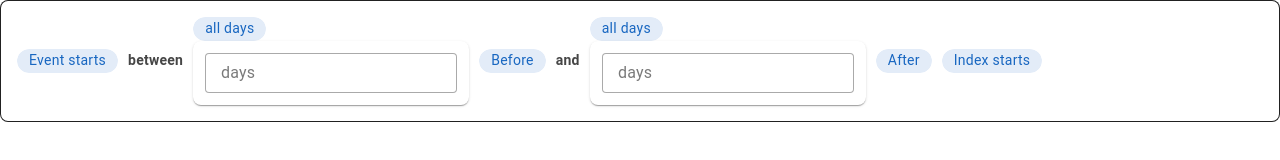
Window editor › toggles the event and index anchors onto the window
Click the element with class "window-editor__chip" showing "Event starts". click: {"x": 68, "y": 61}
box: [17, 49, 118, 73]
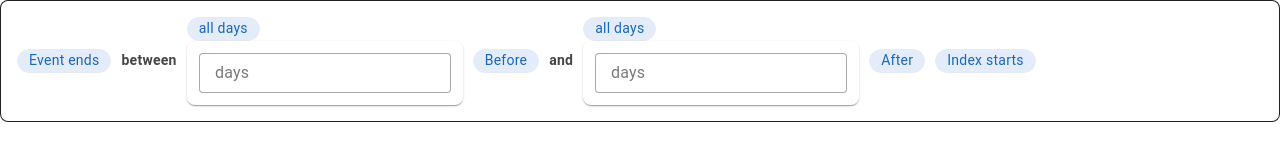
Result: the element with class "window-editor__chip" reads "Event ends" at [29, 52, 100, 68]
Click the element with class "window-editor__chip" showing "Index starts". click: {"x": 986, "y": 61}
box: [935, 49, 1036, 73]
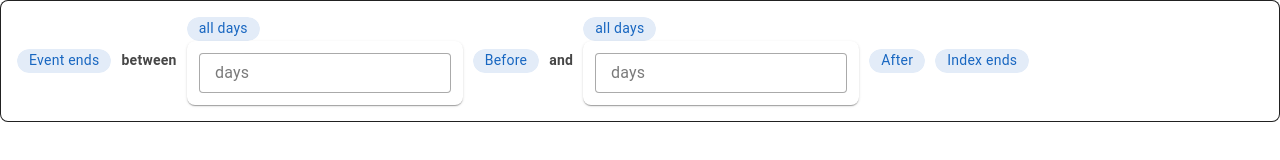
Result: the element with class "window-editor__chip" reads "Index ends" at [947, 52, 1017, 68]
